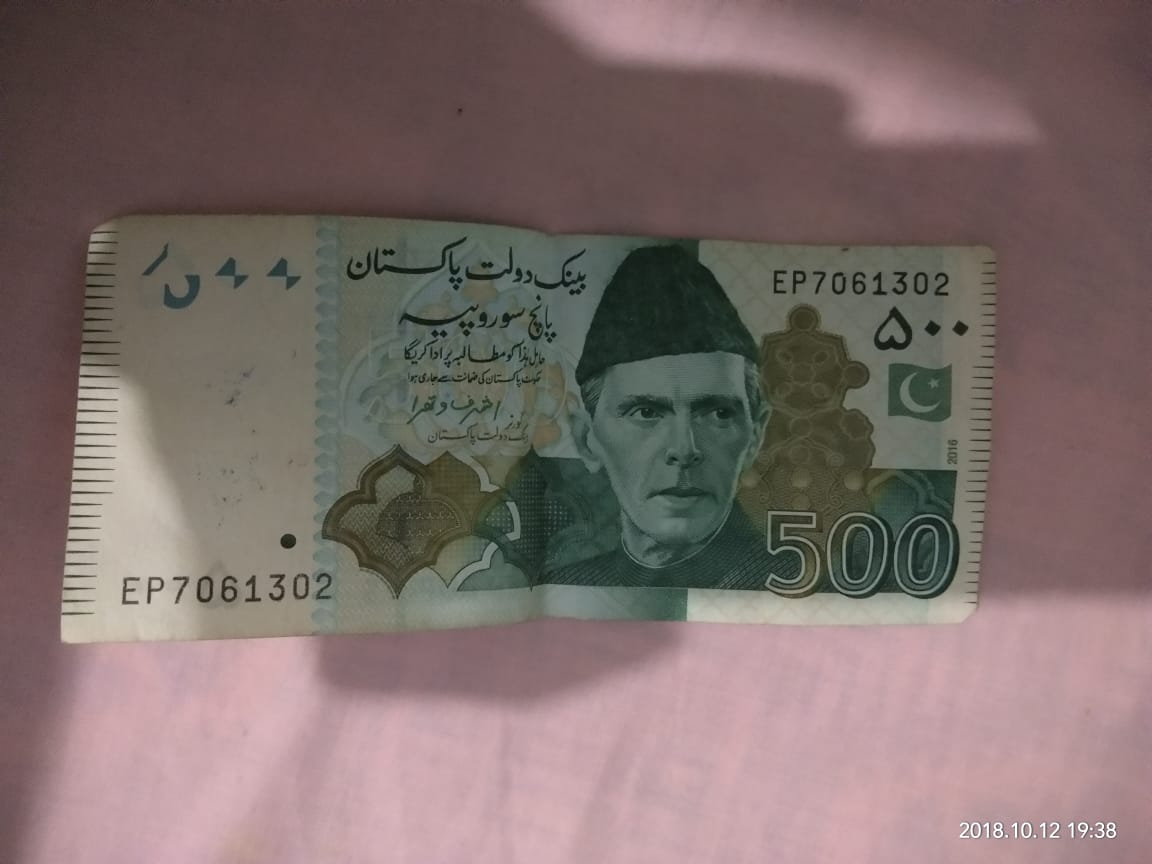500 rupee: (52, 191, 1034, 673)
